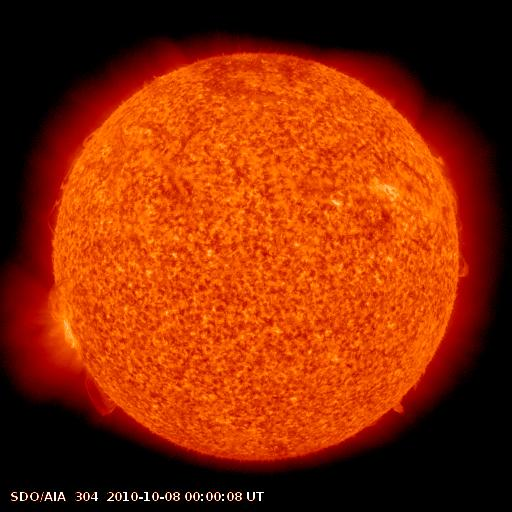prominence: (53, 117, 105, 193), (427, 150, 471, 237), (78, 362, 133, 423), (377, 387, 423, 427), (42, 189, 75, 237), (446, 244, 482, 287)
